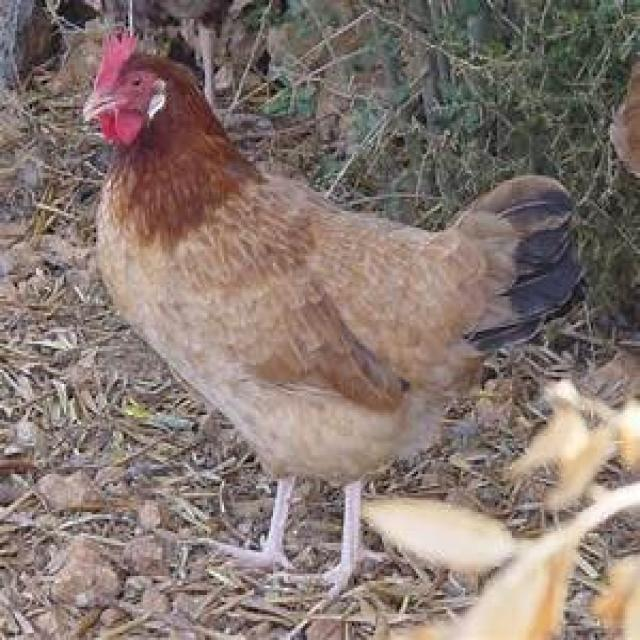hen: (85, 35, 581, 570)
